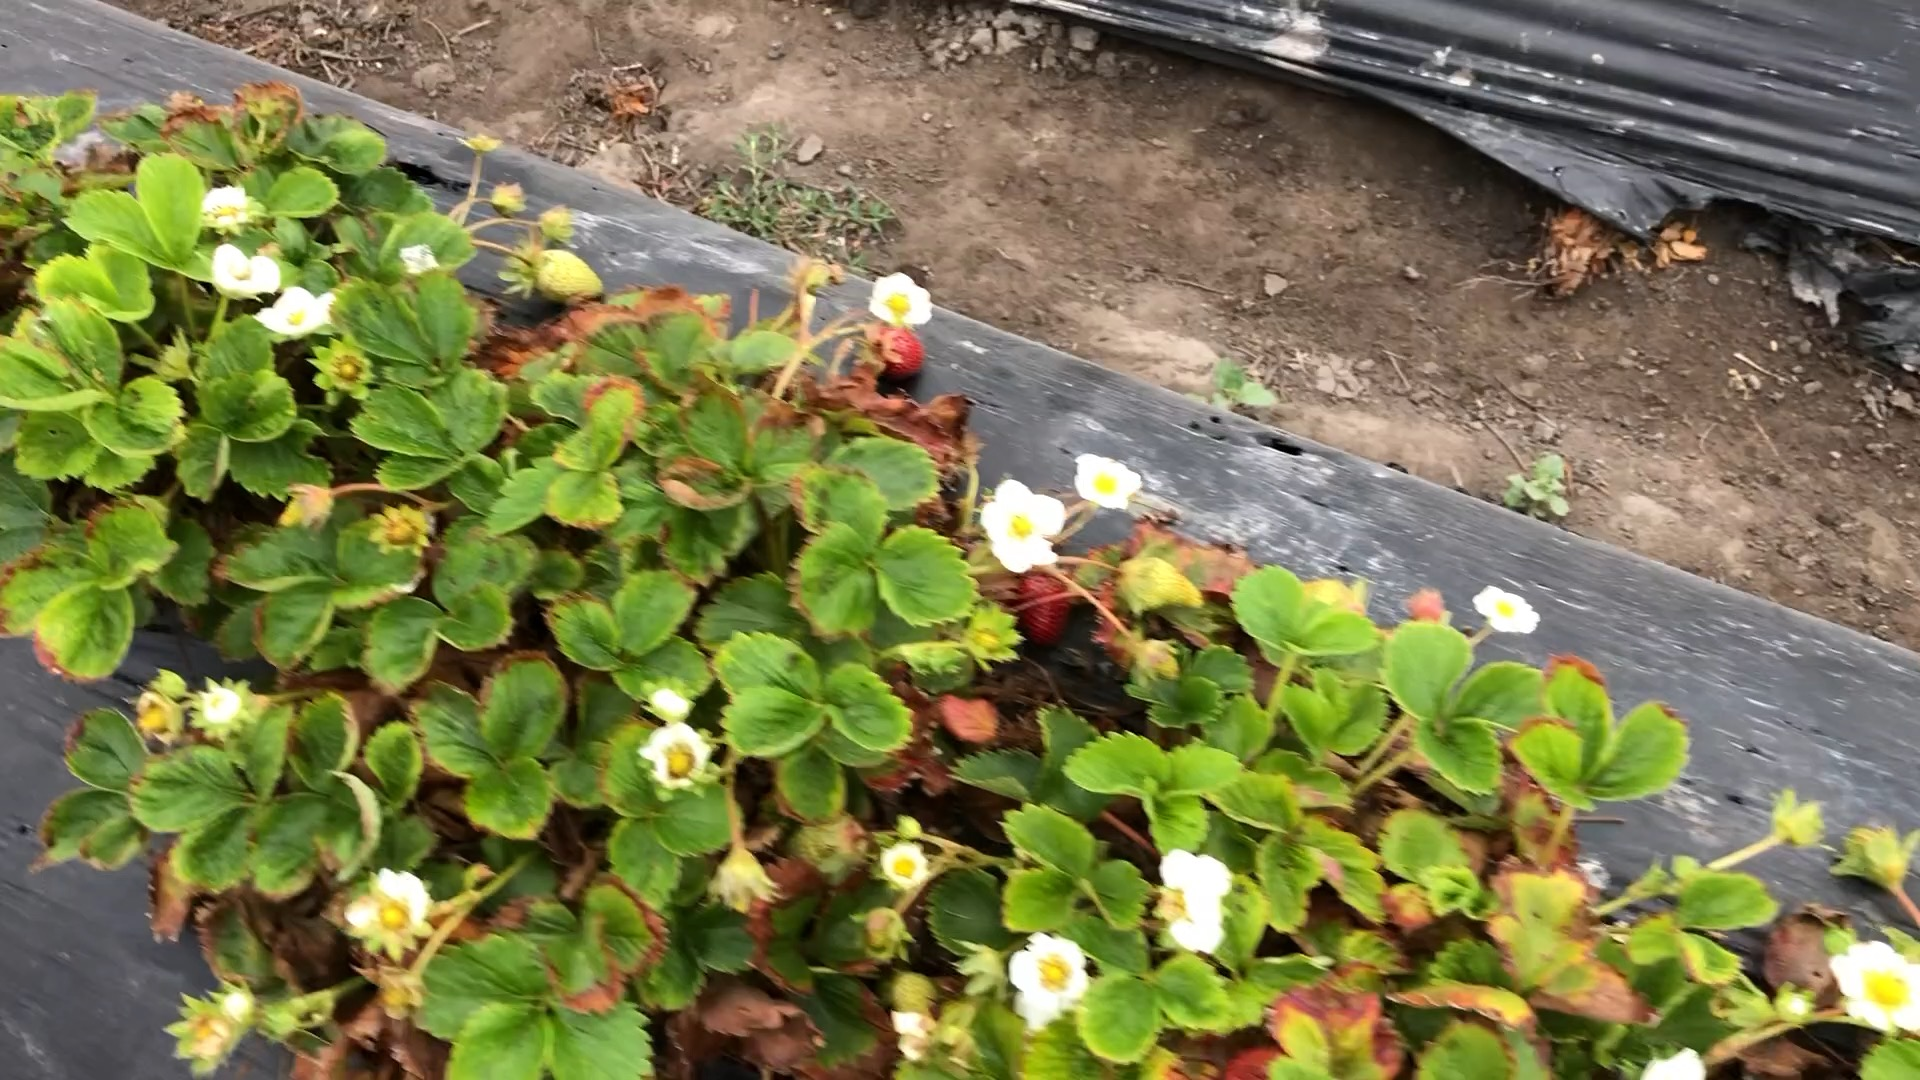ripe_strawberry: (1017, 568, 1071, 649), (866, 323, 930, 382)
unripe_strawberry: (783, 812, 868, 880), (527, 245, 608, 305), (886, 971, 942, 1019)
